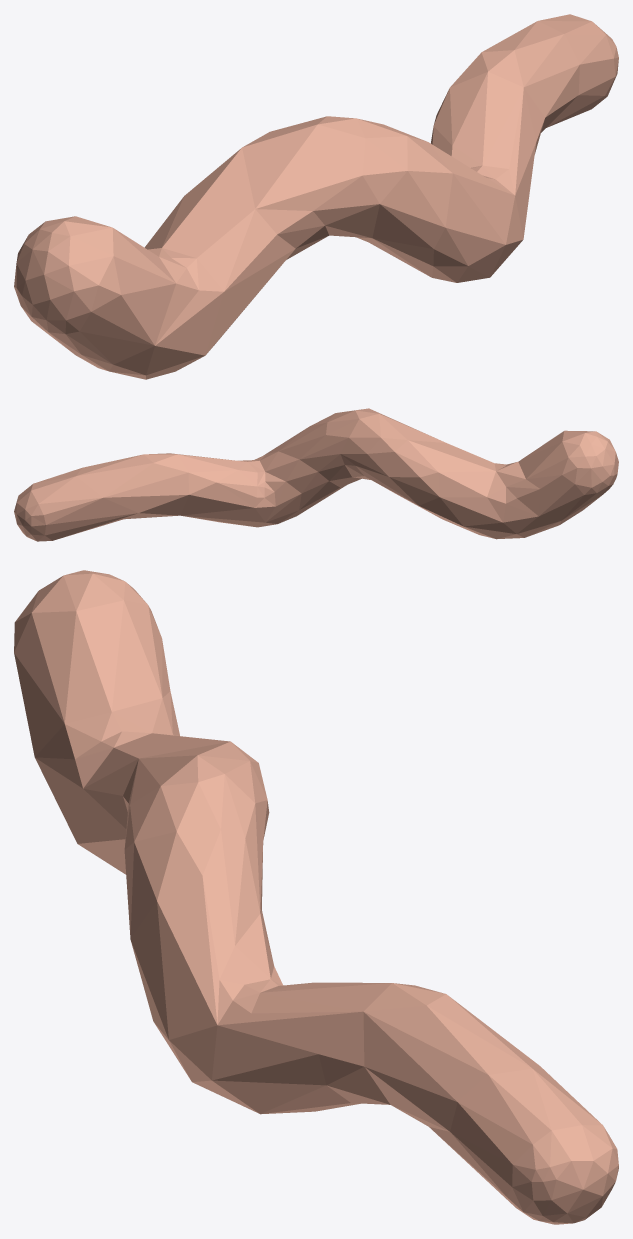
The model's file is appendix.glb.
3 views of the same model, one above another, from view 1: azimuth 30°, elevation 25°; view 2: azimuth 150°, elevation 25°; view 3: azimuth 270°, elevation 25° (orthographic). The views are drawn at different scales.
Parts seen in each view (by area): view 1: Appendix; view 2: Appendix; view 3: Appendix.
Boxes of the visible parts, x1=… form: Appendix: x1=14, y1=14, x2=618, y2=379; Appendix: x1=14, y1=408, x2=618, y2=541; Appendix: x1=14, y1=570, x2=618, y2=1224.
Size of the model in its own units: 69.56 by 18.07 by 39.01.
